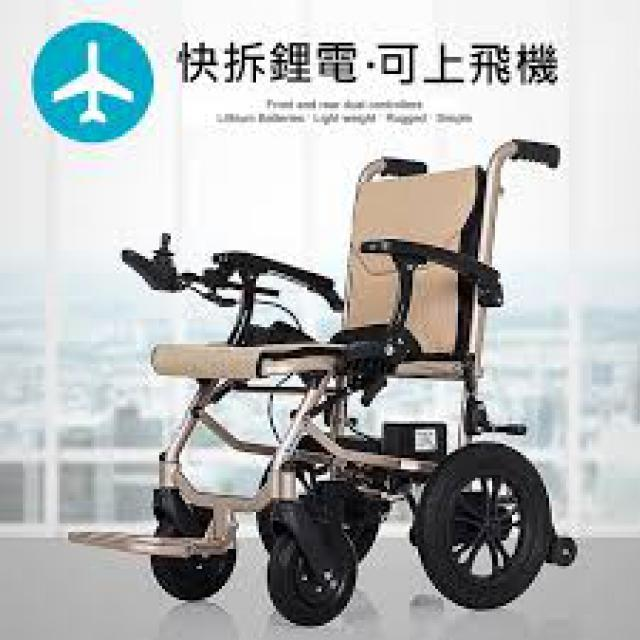wheelchair: (57, 131, 572, 628)
